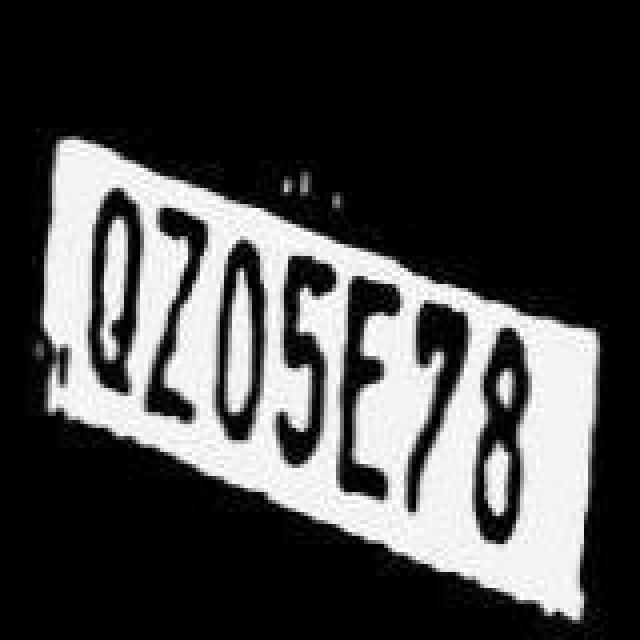5: (274, 246, 334, 490)
7: (404, 296, 484, 520)
8: (478, 328, 550, 560)
E: (330, 282, 406, 502)
O: (214, 230, 274, 458)
Q: (86, 184, 138, 400)
Z: (140, 206, 204, 442)
